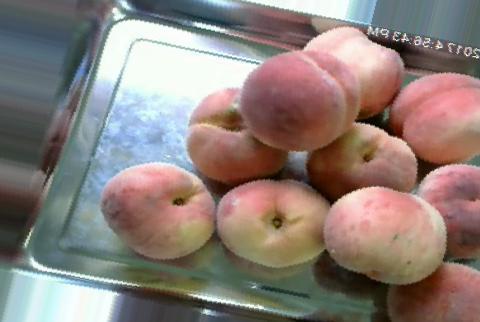Peach: (241, 47, 363, 149), (324, 186, 444, 285), (102, 161, 215, 258), (214, 178, 333, 269), (288, 25, 400, 120), (184, 87, 290, 185), (300, 119, 421, 203), (387, 72, 480, 166), (386, 260, 480, 322), (420, 162, 480, 256)
